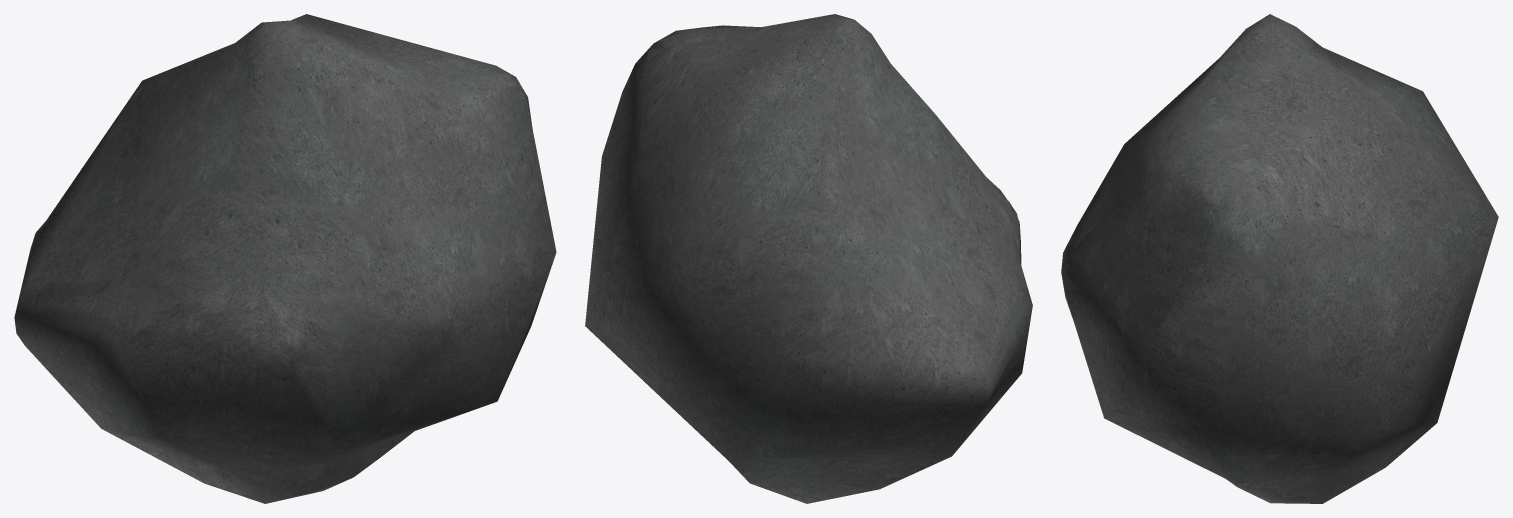
Rendered from rock.002.obj.
3 renders of one model, left to right at view 1: azimuth 30°, elevation 25°; view 2: azimuth 150°, elevation 25°; view 3: azimuth 270°, elevation 25°, orthographic. The views are drawn at different scales.
Size of the model in its own units: 1.37 by 1.41 by 1.19.
1 material, 1 textured.
